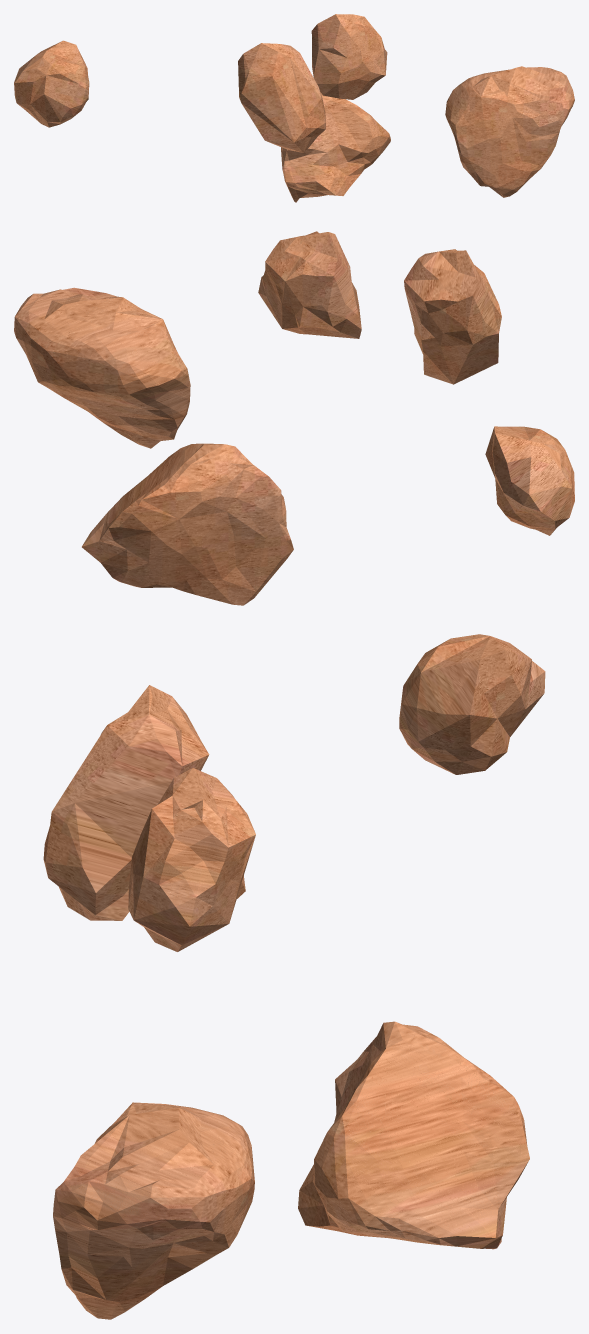
File: Rocks2.dae
3 views of the same model, one above another, from view 1: azimuth 30°, elevation 25°; view 2: azimuth 150°, elevation 25°; view 3: azimuth 270°, elevation 25° (orthographic). The views are drawn at different scales.
Visible parts, largest first — view 1: group_2, group_4, group_3, group_1, group_0; view 2: group_3, group_2, group_4, group_1, group_0; view 3: group_3, group_2, group_4, group_1, group_0.
Boxes of the visible parts, bbox=[...] form: group_2: bbox=[445, 66, 574, 197]; group_4: bbox=[238, 43, 325, 152]; group_3: bbox=[281, 92, 390, 202]; group_1: bbox=[311, 14, 387, 99]; group_0: bbox=[14, 40, 89, 127]; group_3: bbox=[82, 443, 293, 605]; group_2: bbox=[14, 287, 190, 448]; group_4: bbox=[404, 249, 501, 384]; group_1: bbox=[258, 231, 361, 338]; group_0: bbox=[485, 426, 574, 535]; group_3: bbox=[298, 1021, 529, 1249]; group_2: bbox=[53, 1102, 254, 1319]; group_4: bbox=[43, 685, 209, 920]; group_1: bbox=[128, 768, 255, 951]; group_0: bbox=[399, 634, 545, 774].
Bounding box in the file's own units: 21.25 × 9.9 × 9.89.
Materials: 3 (3 with a texture image).
